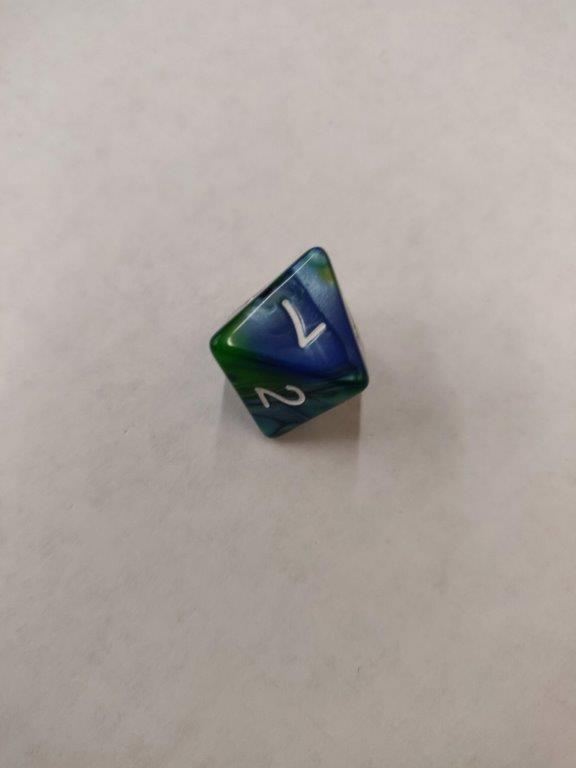d8-7: (208, 244, 368, 445)
